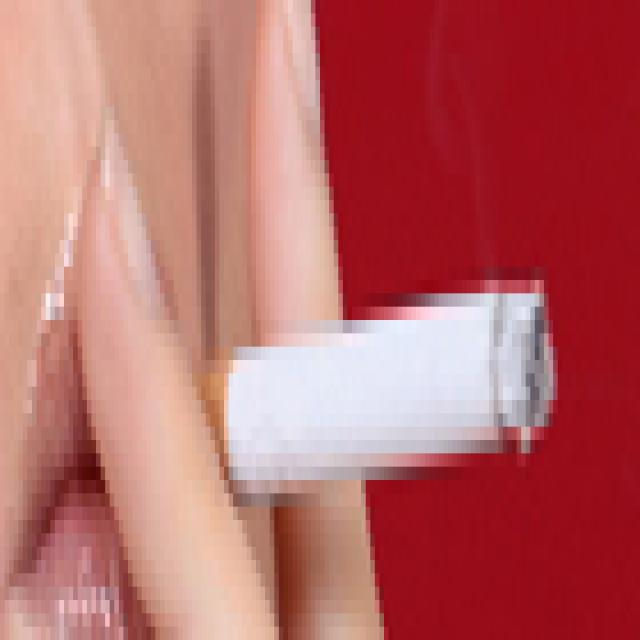smoking: (172, 281, 554, 496)
